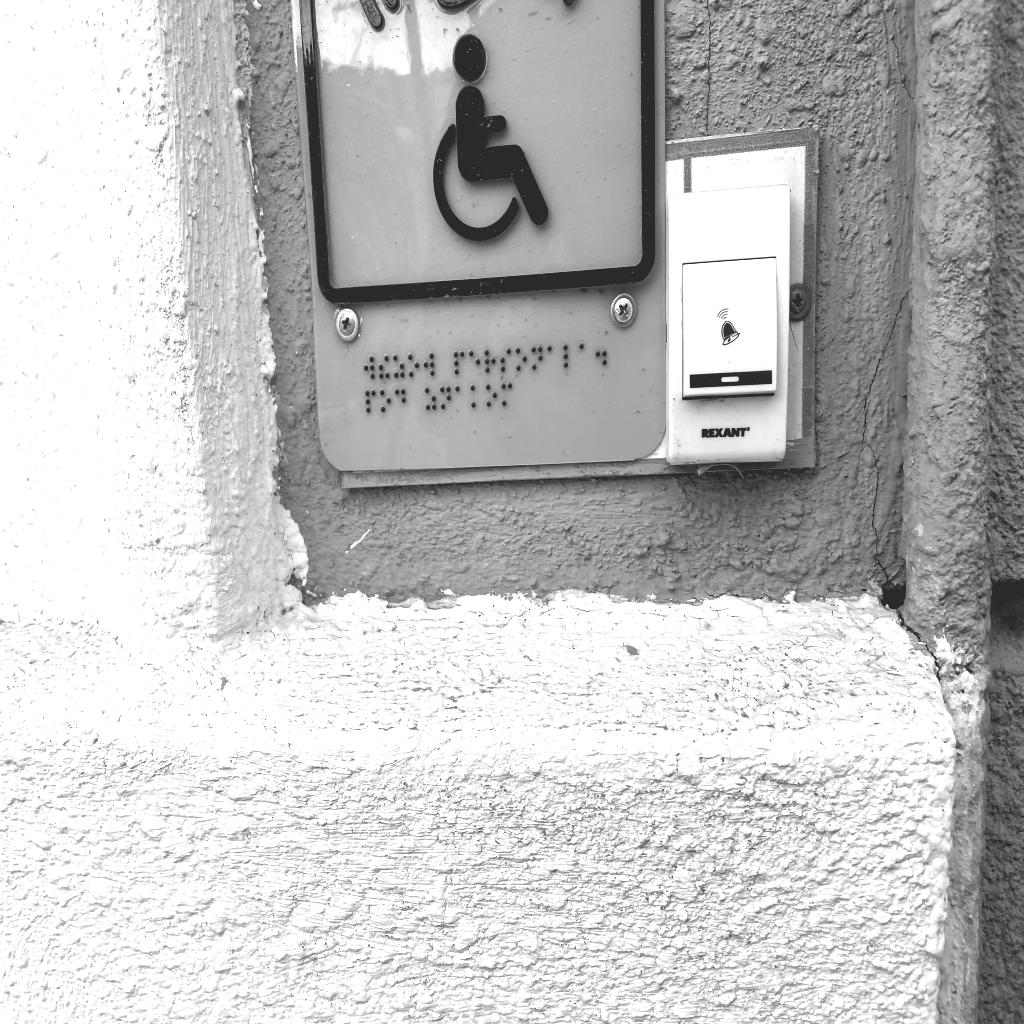_n: (531, 346, 543, 371), (440, 385, 451, 410)
a: (547, 344, 558, 369), (578, 342, 589, 367), (454, 385, 465, 408)
d: (395, 388, 406, 412)
e: (469, 350, 481, 375)
ii: (379, 354, 390, 379)
k: (470, 384, 481, 408)
l: (563, 343, 575, 368)
m: (501, 382, 512, 406)
o: (485, 383, 497, 408), (407, 353, 419, 377), (515, 347, 527, 371), (380, 389, 391, 413)
p: (453, 350, 465, 375), (365, 389, 376, 413)
r: (483, 348, 496, 373)
s: (500, 348, 511, 373)
tochka: (595, 341, 607, 367)
v: (363, 355, 375, 380), (423, 352, 435, 377)
z: (424, 387, 437, 411), (393, 354, 405, 379)
